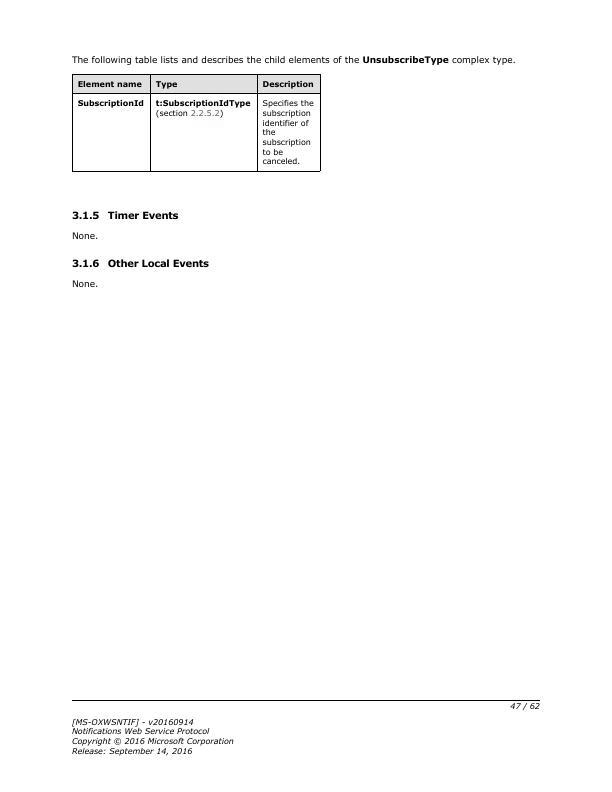table: (70, 73, 324, 174)
text: (67, 715, 238, 758), (67, 52, 517, 68), (67, 256, 213, 271), (70, 208, 183, 222), (68, 227, 103, 241), (68, 276, 102, 290)
